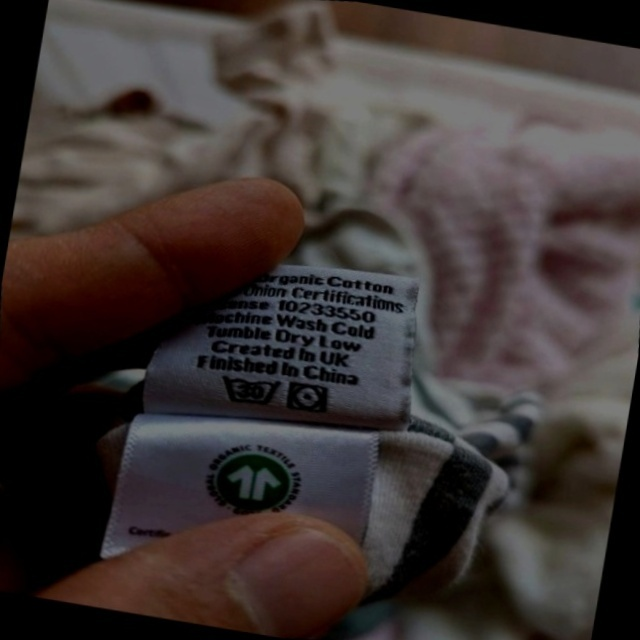30C: (212, 364, 287, 416)
tumble_dry_low: (281, 374, 335, 422)
